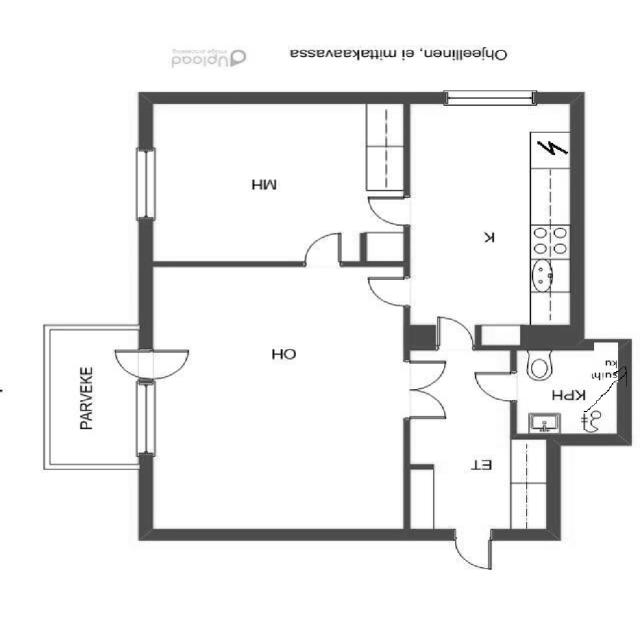door: (402, 355, 454, 429), (106, 347, 192, 380), (448, 528, 497, 574), (362, 190, 416, 229), (469, 368, 523, 406), (429, 313, 479, 352), (363, 272, 415, 308), (300, 228, 346, 268)
window: (434, 84, 542, 111), (128, 142, 162, 226), (128, 381, 161, 462)
zone: (144, 260, 411, 541), (404, 98, 576, 337), (144, 101, 388, 269), (409, 348, 555, 541), (510, 342, 624, 439)
